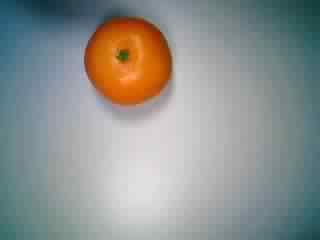orange: (78, 13, 173, 107)
